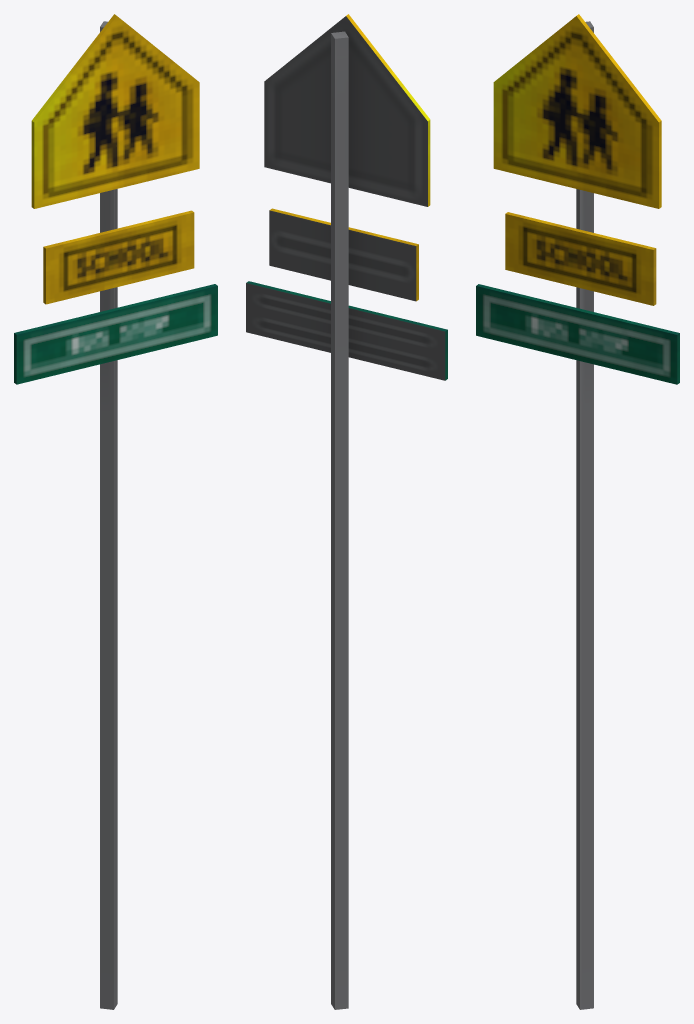
Rendered from sb_obj_ModernCity102_sign_school.fbx.
3 views of the same model, side by side, from view 1: azimuth 30°, elevation 25°; view 2: azimuth 150°, elevation 25°; view 3: azimuth 330°, elevation 25° (orthographic).
Parts seen in each view (by area): view 1: sb_obj_ModernCity102_sign_school; view 2: sb_obj_ModernCity102_sign_school; view 3: sb_obj_ModernCity102_sign_school.
Part boxes in pixels (left/top/right/bottom): sb_obj_ModernCity102_sign_school: left=14, top=14, right=217, bottom=1009; sb_obj_ModernCity102_sign_school: left=246, top=14, right=447, bottom=1009; sb_obj_ModernCity102_sign_school: left=476, top=14, right=679, bottom=1009.
Bounding box in the file's own units: 0.5654 × 2.68 × 0.0658.
